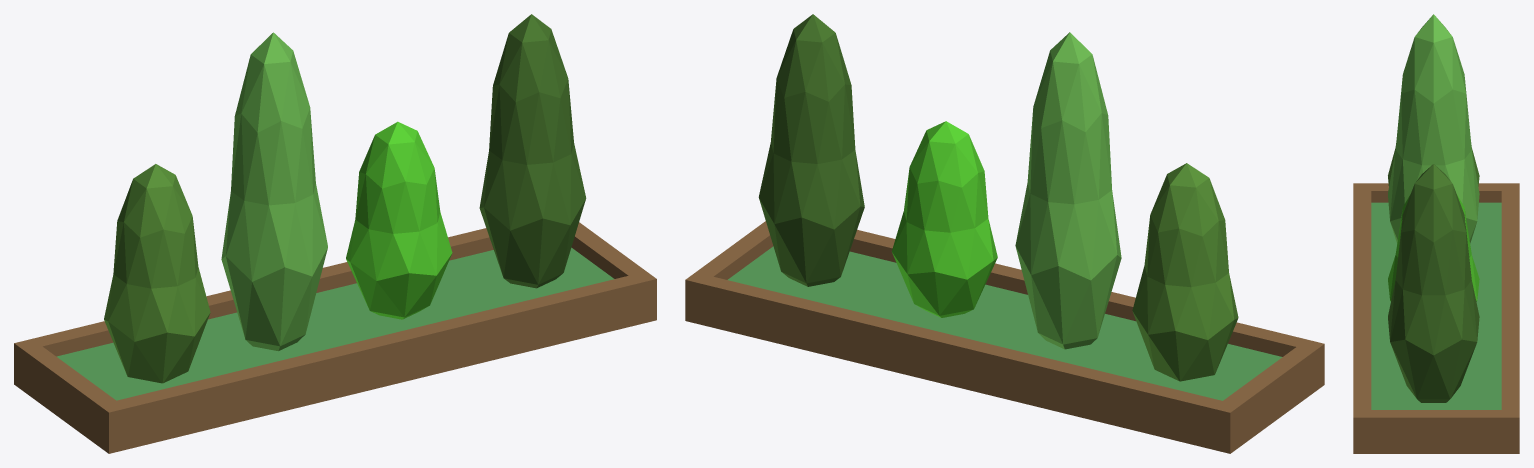
The model's file is Potted Plant 6.fbx.
3 renders of one model, left to right at view 1: azimuth 30°, elevation 25°; view 2: azimuth 150°, elevation 25°; view 3: azimuth 270°, elevation 25°, orthographic. The views are drawn at different scales.
Parts seen in each view (by area): view 1: Potted plant 6; view 2: Potted plant 6; view 3: Potted plant 6.
Part boxes in pixels (x1,y1,x2,y2): Potted plant 6: (14,14,656,453); Potted plant 6: (685,14,1324,453); Potted plant 6: (1353,14,1519,453).
Size of the model in its own units: 334 by 196 by 100.
Materials: 1 (1 with a texture image).
